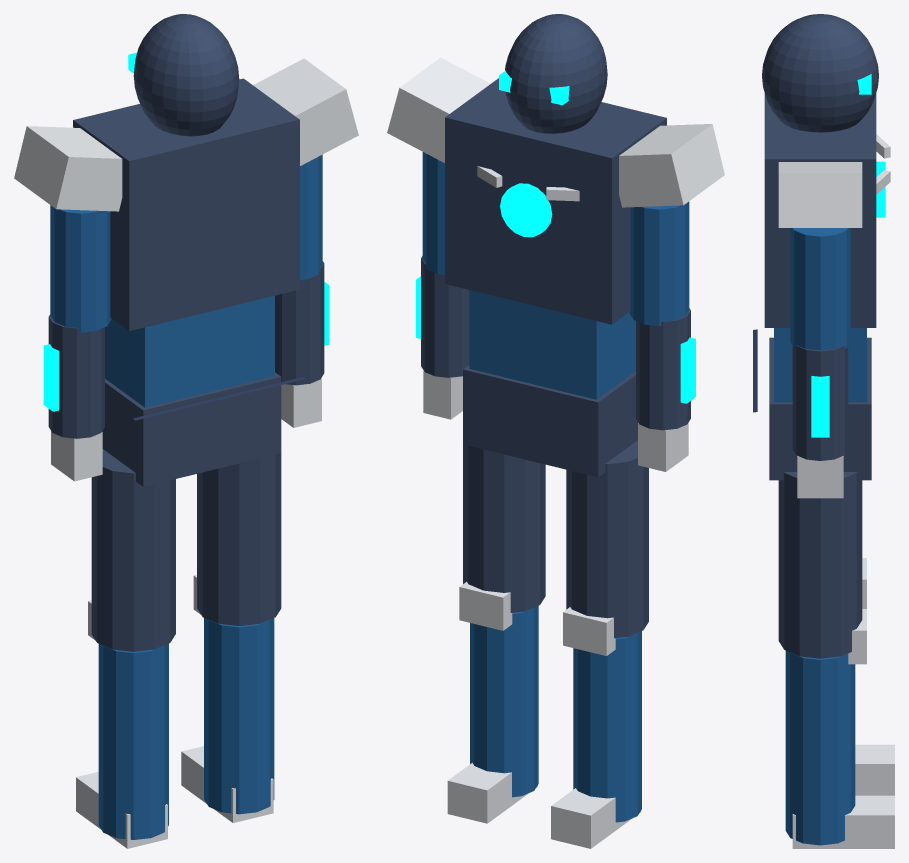
File: Hero_Armored.fbx
The picture shows the model from 3 angles, left to right: view 1: azimuth 30°, elevation 25°; view 2: azimuth 150°, elevation 25°; view 3: azimuth 270°, elevation 25°; orthographic projection. The views are drawn at different scales.
Parts seen in each view (by area): view 1: CSVS_Superhero_Heroic; view 2: CSVS_Superhero_Heroic; view 3: CSVS_Superhero_Heroic.
Boxes of the visible parts, <box> form: CSVS_Superhero_Heroic: <box>14,14,358,848</box>; CSVS_Superhero_Heroic: <box>387,14,724,848</box>; CSVS_Superhero_Heroic: <box>753,14,894,848</box>.
Bounding box in the file's own units: 0.7456 × 1.89 × 0.305.
